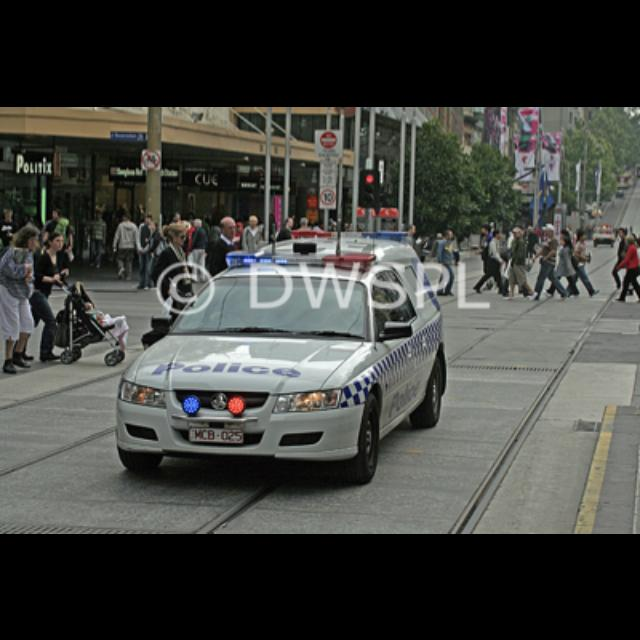carPlate: (188, 427, 244, 443)
